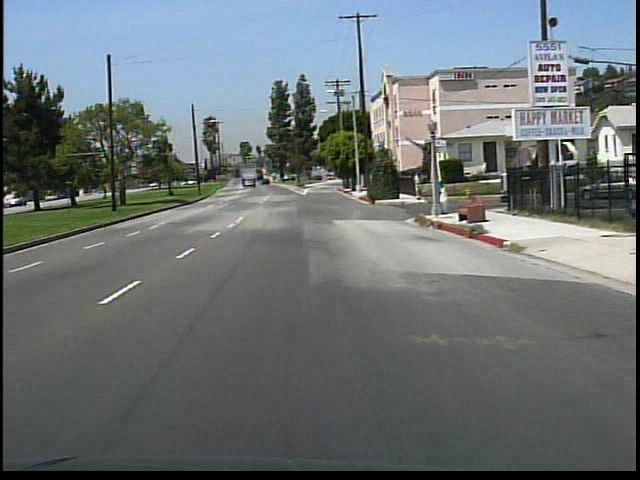person: (433, 179, 448, 218), (409, 170, 422, 200)
